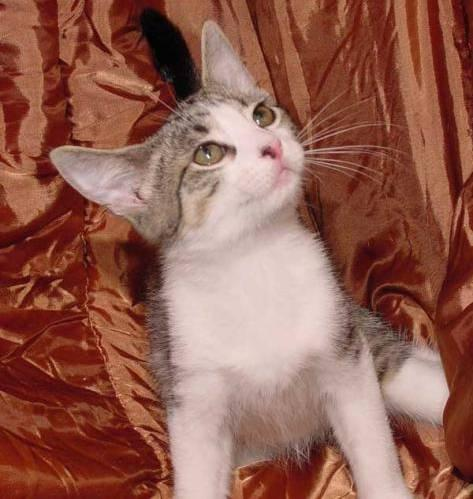cat: (50, 21, 448, 498)
